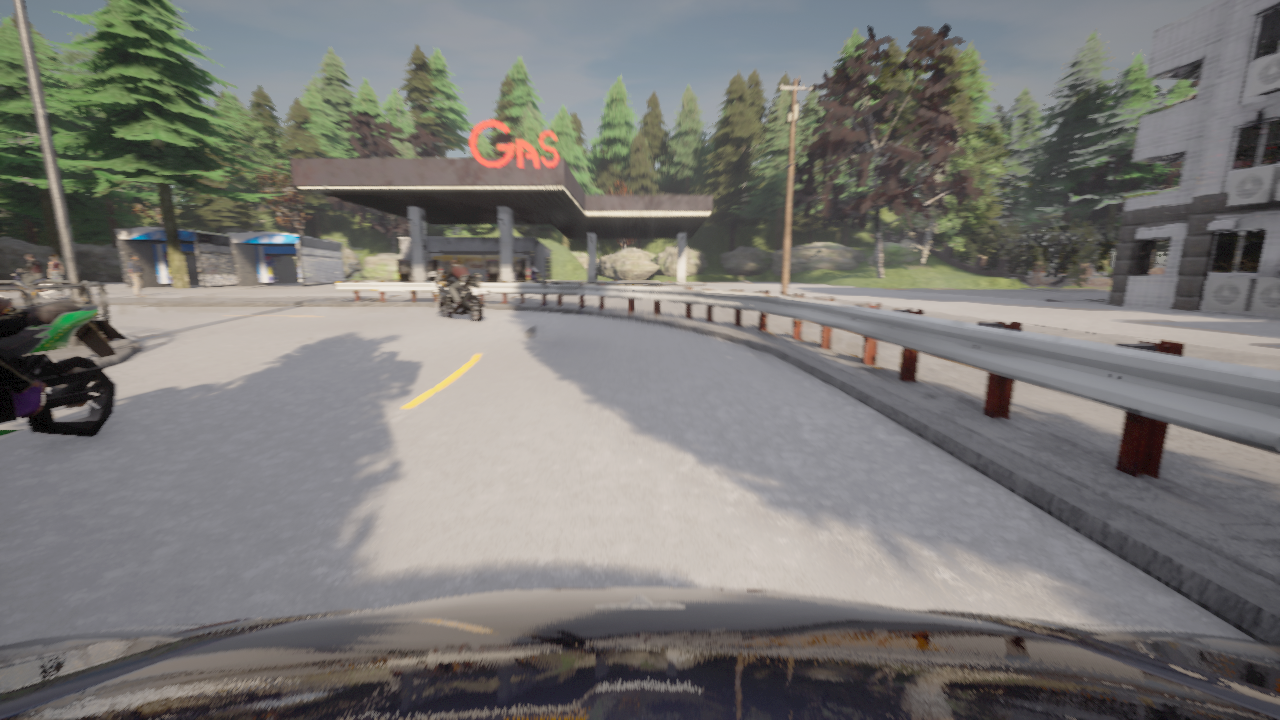cyclist: (0, 588, 1279, 719), (429, 271, 487, 321), (0, 271, 63, 299), (529, 267, 541, 283)
pedestrian: (128, 255, 145, 296), (49, 255, 64, 296)
